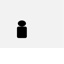human: (15, 19, 27, 40)
